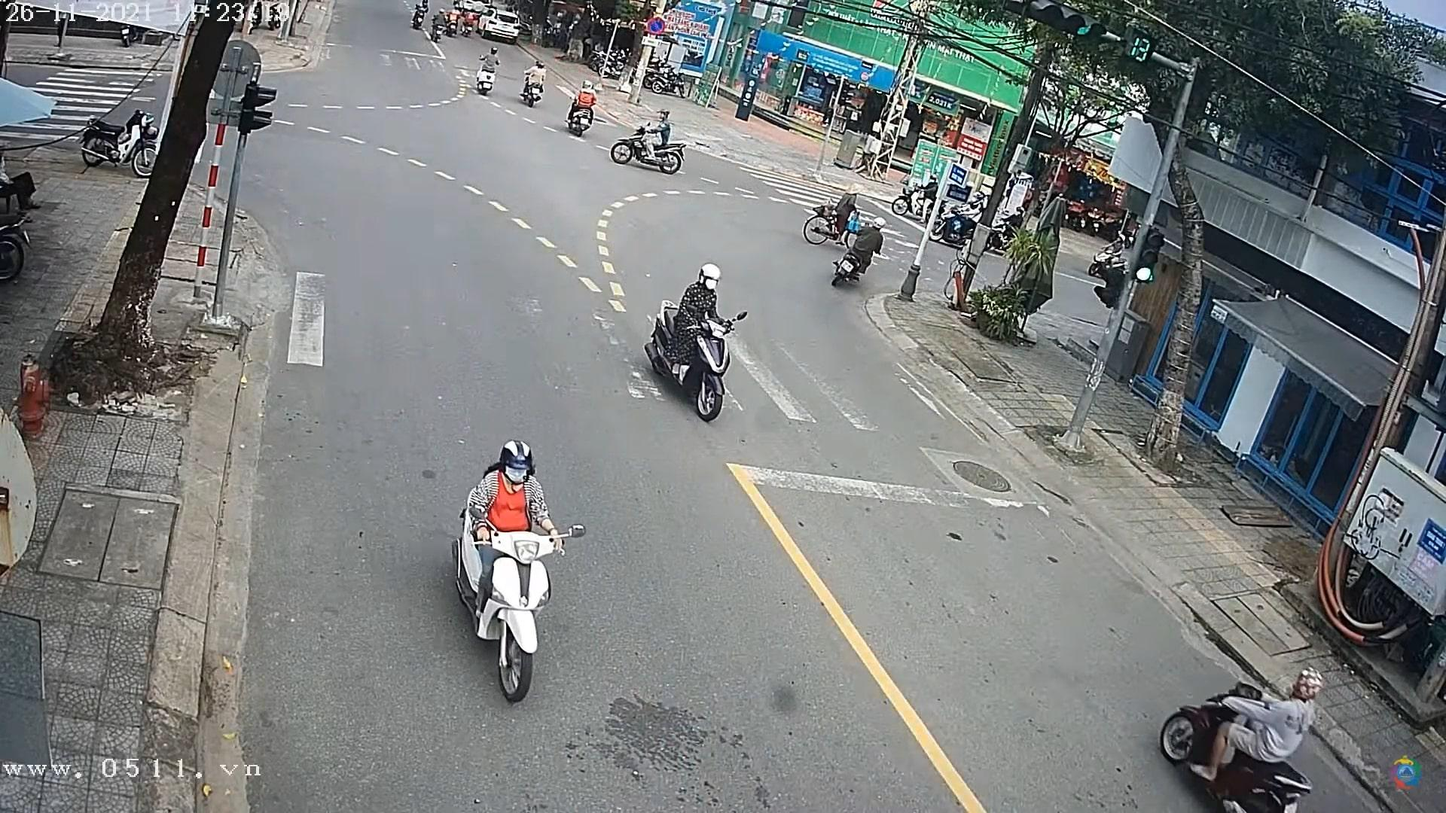motorbike: (449, 503, 565, 707), (645, 292, 735, 425), (608, 135, 686, 173), (831, 234, 868, 288), (570, 96, 599, 136), (522, 76, 549, 112), (475, 62, 498, 100)
